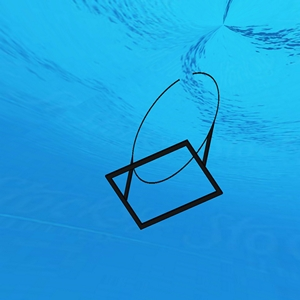circle: (104, 69, 230, 233)
